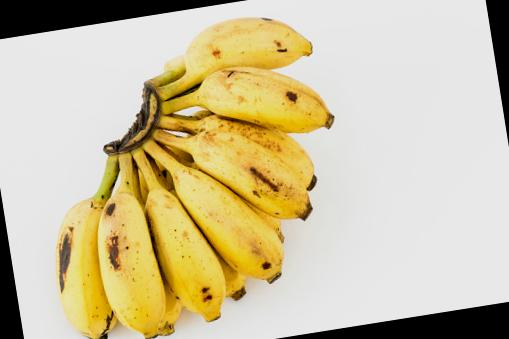Banana Ripe: (8, 12, 371, 339), (127, 135, 286, 328), (176, 104, 316, 248), (178, 46, 340, 156), (154, 4, 334, 98), (90, 177, 177, 339), (44, 183, 124, 339), (148, 160, 221, 327)
